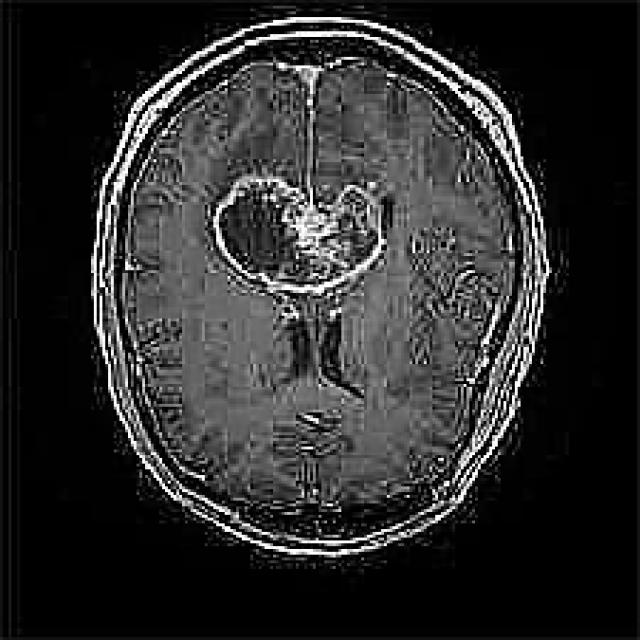Tumor-Cell: (219, 154, 381, 312)
